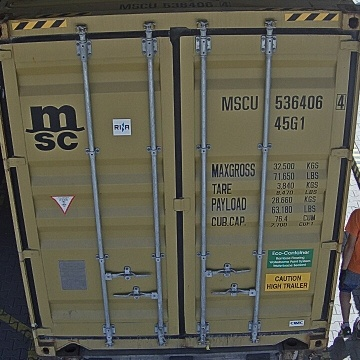serial_id: (222, 94, 346, 110)
